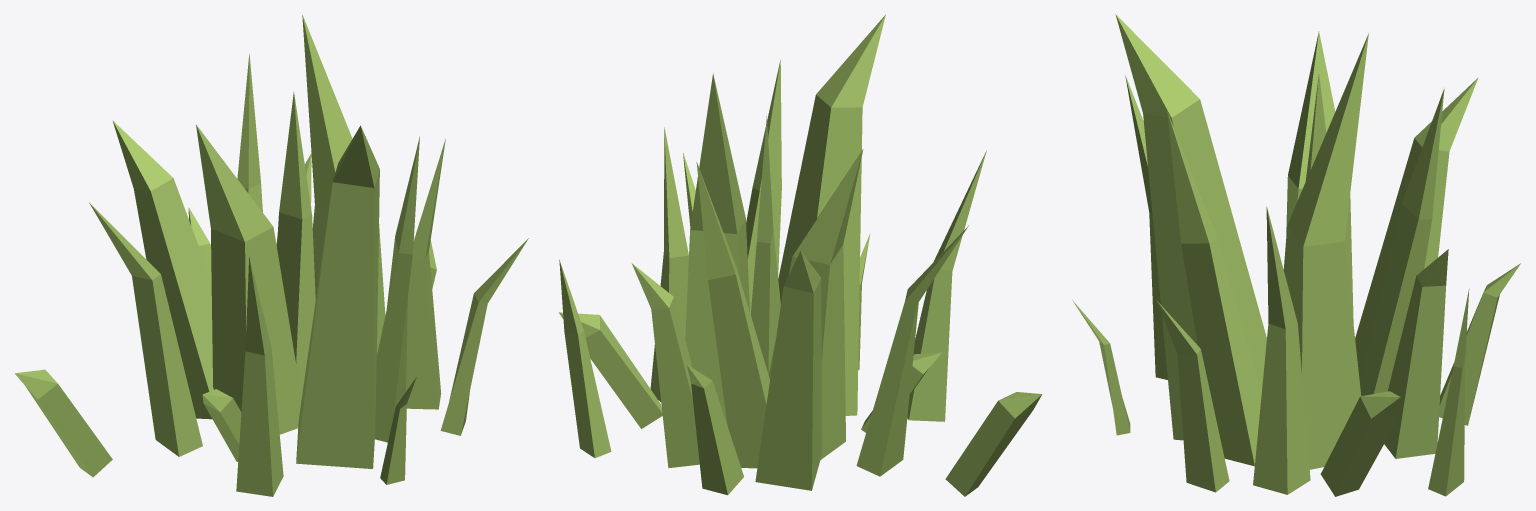
File: grass1.gltf
3 views of the same model, side by side, from view 1: azimuth 30°, elevation 25°; view 2: azimuth 150°, elevation 25°; view 3: azimuth 270°, elevation 25° (orthographic). The views are drawn at different scales.
Parts seen in each view (by area): view 1: Grass7; view 2: Grass7; view 3: Grass7.
Part boxes in pixels (x1,y1,x2,y2): Grass7: (15, 15, 528, 496); Grass7: (559, 14, 1042, 496); Grass7: (1072, 14, 1520, 496).
Bounding box in the file's own units: 1.23 × 1 × 0.9774.
